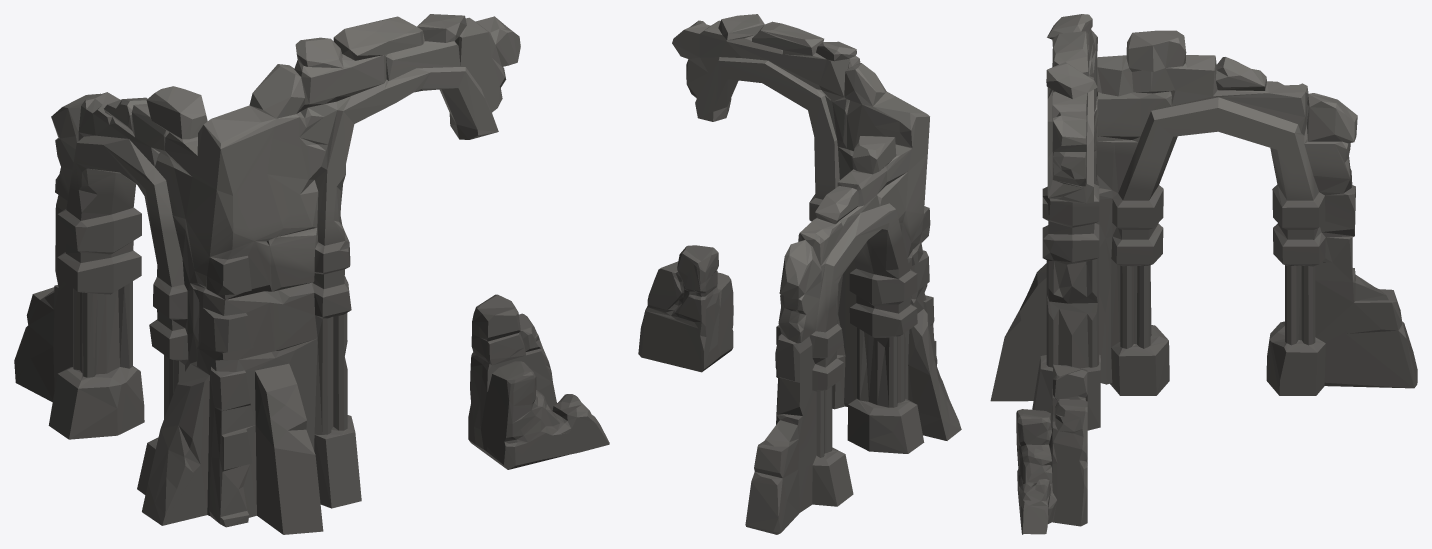
Rendered from ud_bld_techlab.gltf.
3 views of the same model, side by side, from view 1: azimuth 30°, elevation 25°; view 2: azimuth 150°, elevation 25°; view 3: azimuth 270°, elevation 25° (orthographic). The views are drawn at different scales.
Visible parts, largest first — view 1: ud_bld_techlab; view 2: ud_bld_techlab; view 3: ud_bld_techlab.
Boxes of the visible parts, x1,y1,x2,y2 form: ud_bld_techlab: [14, 14, 609, 534]; ud_bld_techlab: [638, 14, 961, 534]; ud_bld_techlab: [990, 14, 1417, 534].
Size of the model in its own units: 4.73 by 4.85 by 4.61.
Materials: 1 (1 with a texture image).
